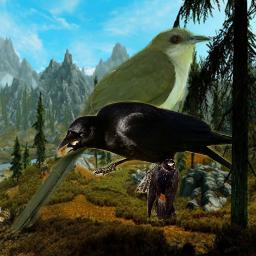Crow: (55, 100, 232, 193)
Cuckoo: (11, 27, 213, 237)
Swallow: (147, 159, 179, 221)
